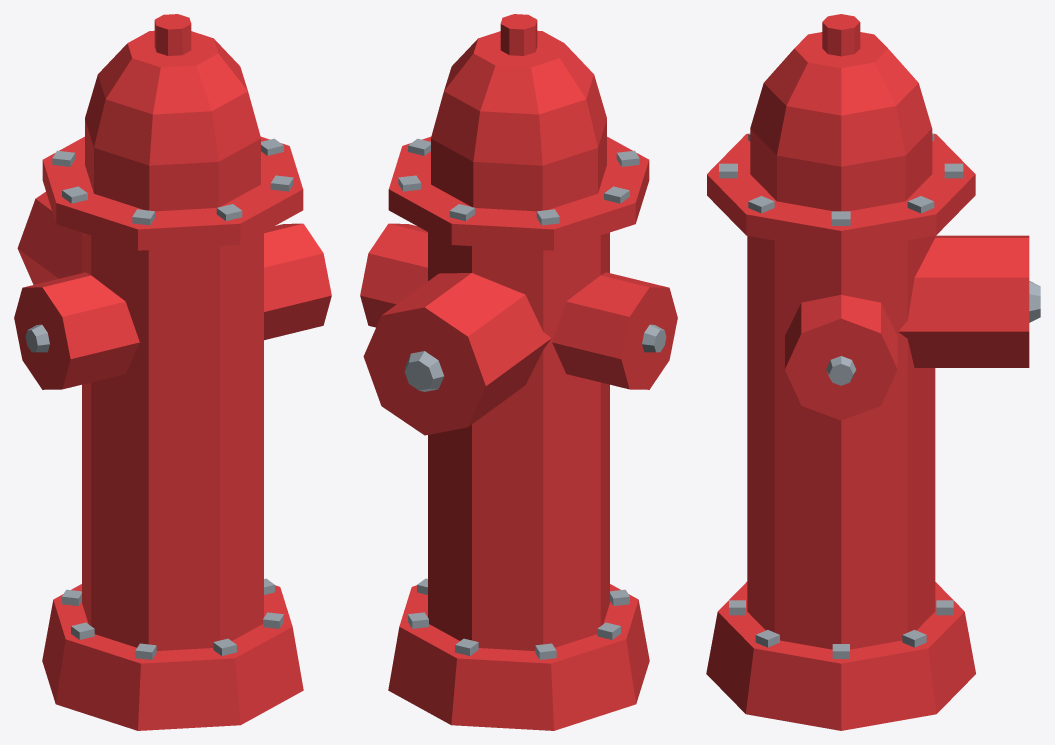
Rendered from fire_hydrant.fbx.
The picture shows the model from 3 angles, left to right: view 1: azimuth 30°, elevation 25°; view 2: azimuth 150°, elevation 25°; view 3: azimuth 270°, elevation 25°; orthographic projection.
Parts seen in each view (by area): view 1: File_hydrant_01; view 2: File_hydrant_01; view 3: File_hydrant_01.
Part boxes in pixels (x1,y1,x2,y2): File_hydrant_01: (14, 14, 331, 730); File_hydrant_01: (360, 14, 677, 730); File_hydrant_01: (706, 14, 1040, 730).
Size of the model in its own units: 49.25 by 109 by 50.63.
1 material, 1 textured.
